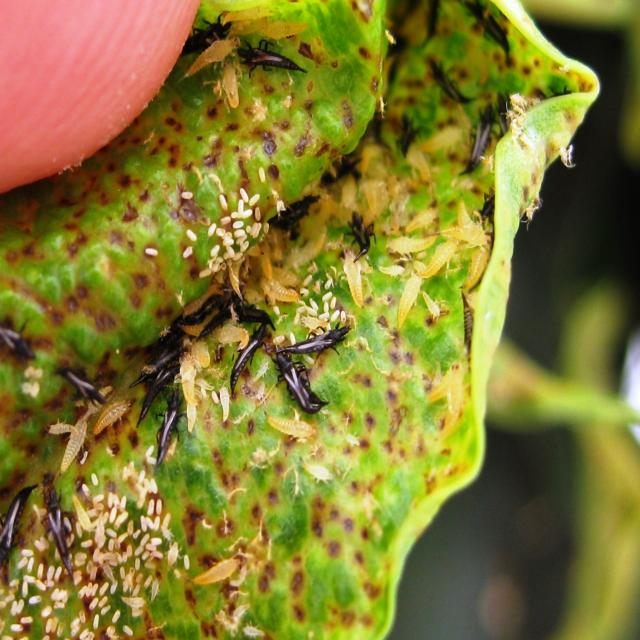Thrip-Adult-: (274, 342, 324, 417), (224, 321, 271, 400), (275, 318, 356, 358), (178, 35, 244, 83), (234, 40, 309, 76), (154, 386, 189, 462)
Thrip-Larva-: (262, 404, 319, 448), (338, 246, 370, 312), (188, 550, 240, 590), (61, 413, 93, 473), (394, 273, 426, 332), (423, 235, 462, 282), (386, 227, 442, 258), (93, 398, 134, 440), (401, 203, 444, 235), (300, 460, 336, 489), (420, 288, 445, 326), (45, 415, 82, 440), (163, 532, 182, 575), (372, 260, 412, 280), (119, 593, 152, 611), (228, 598, 254, 619), (239, 619, 266, 637), (149, 574, 164, 602), (430, 356, 442, 389)
